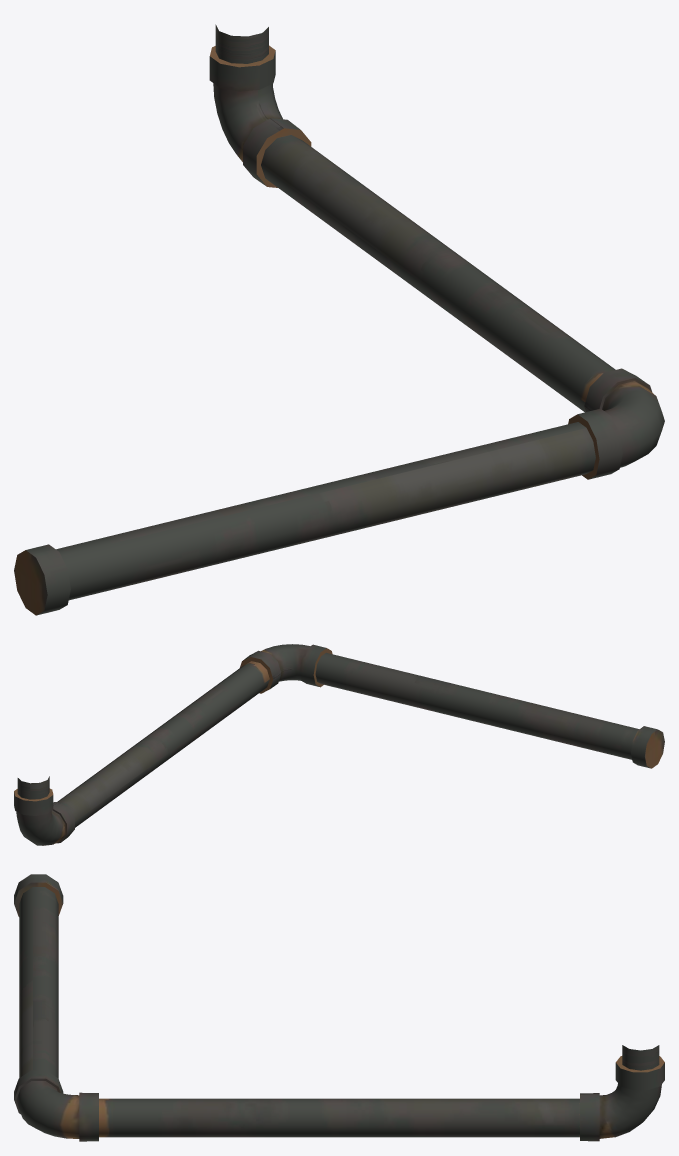
The picture shows the model from 3 angles, top to bottom: view 1: azimuth 30°, elevation 25°; view 2: azimuth 150°, elevation 25°; view 3: azimuth 270°, elevation 25°; orthographic projection. The views are drawn at different scales.
Visible parts, largest first — view 1: body0_model0_lod0_mesh0; view 2: body0_model0_lod0_mesh0; view 3: body0_model0_lod0_mesh0.
Boxes of the visible parts, bbox=[...] form: body0_model0_lod0_mesh0: bbox=[14, 24, 664, 615]; body0_model0_lod0_mesh0: bbox=[14, 644, 664, 845]; body0_model0_lod0_mesh0: bbox=[14, 874, 664, 1141].
Size of the model in its own units: 112 by 21.81 by 132.
1 material, 1 textured.
